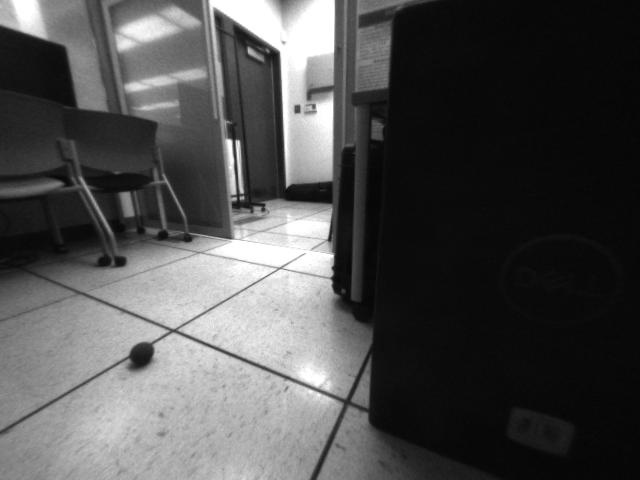dogtoy: (123, 338, 160, 372)
